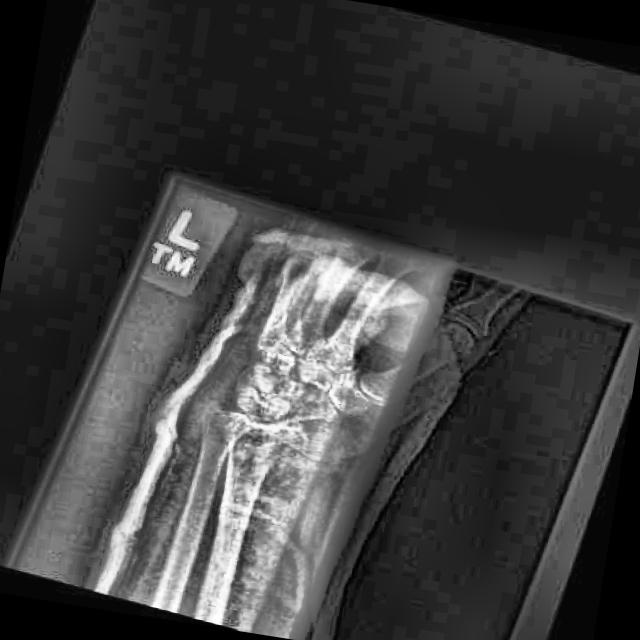wrist positive: (185, 420, 305, 480), (230, 385, 271, 418)
